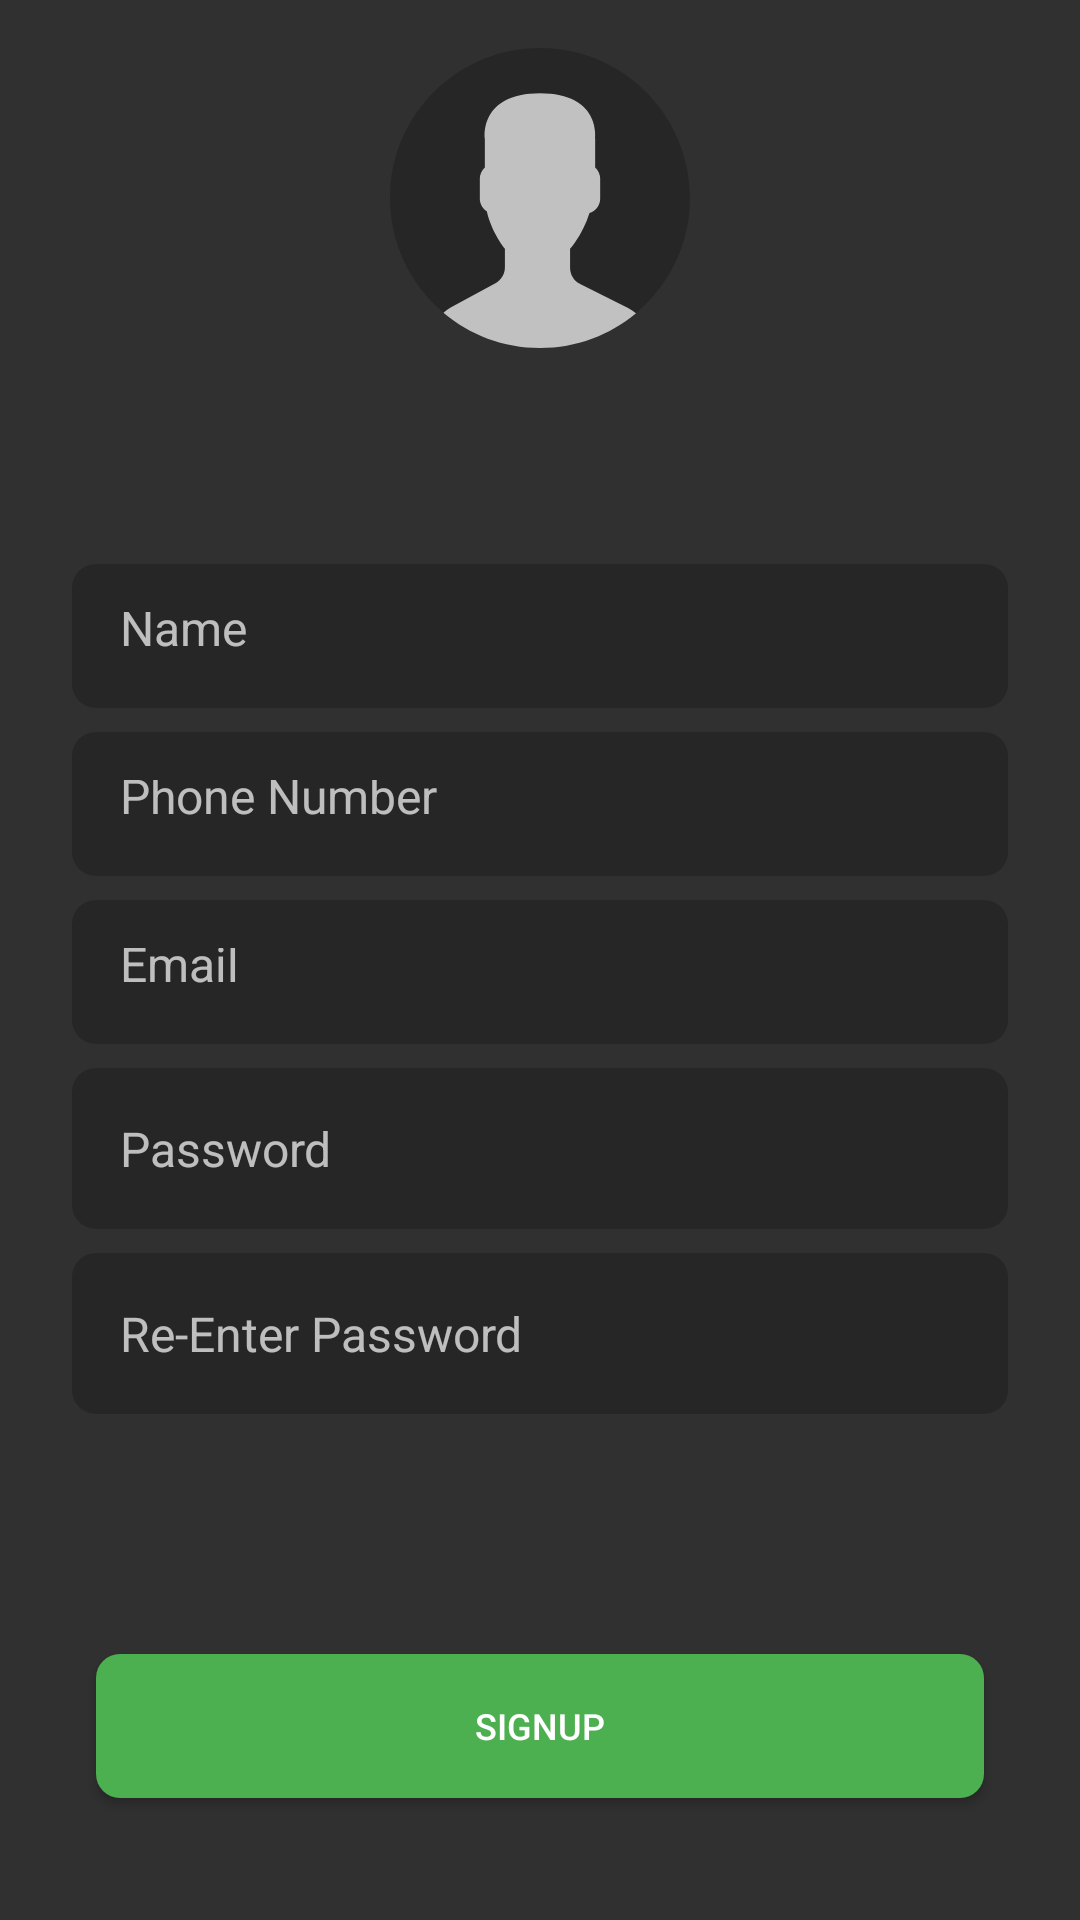

Named icons in this screenshot (1080x1920) and their bounding boxes, (x1, y1, x2, y2):
Profile Picture: (443, 93, 636, 348)
